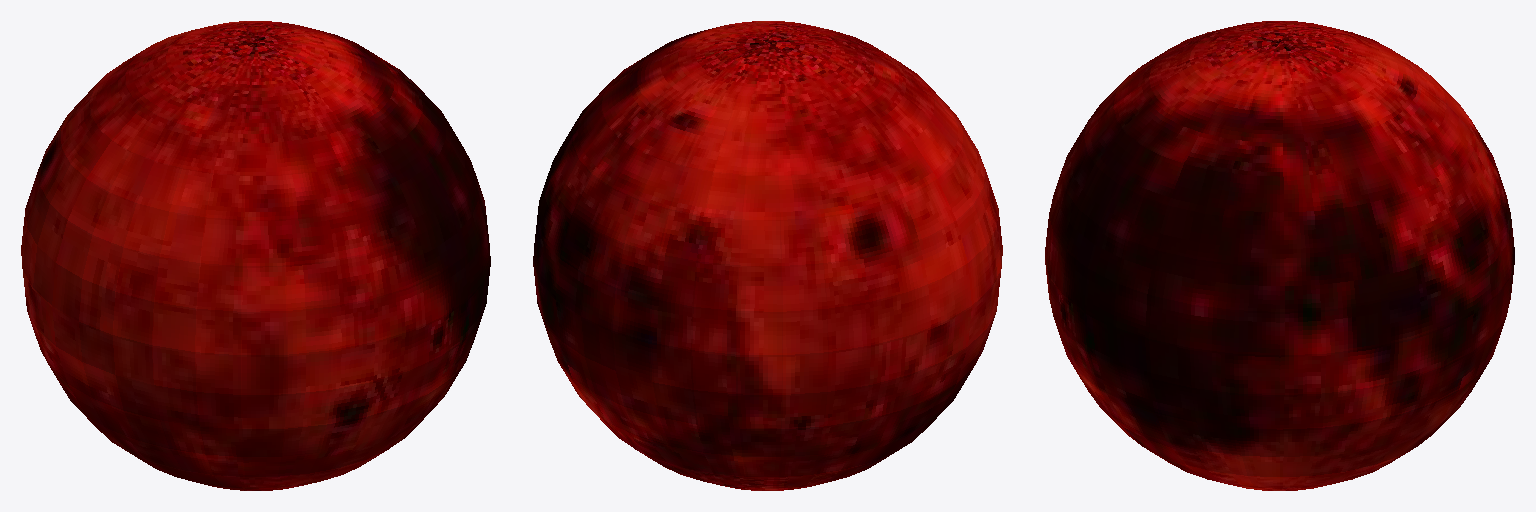
3 renders of one model, left to right at view 1: azimuth 30°, elevation 25°; view 2: azimuth 150°, elevation 25°; view 3: azimuth 270°, elevation 25°, orthographic.
Parts seen in each view (by area): view 1: Sphere; view 2: Sphere; view 3: Sphere.
Part boxes in pixels (x1,y1,x2,y2): Sphere: (21,21,490,490); Sphere: (533,21,1002,490); Sphere: (1045,21,1514,490).
Size of the model in its own units: 4.25 by 4.25 by 4.25.
Materials: 1 (1 with a texture image).